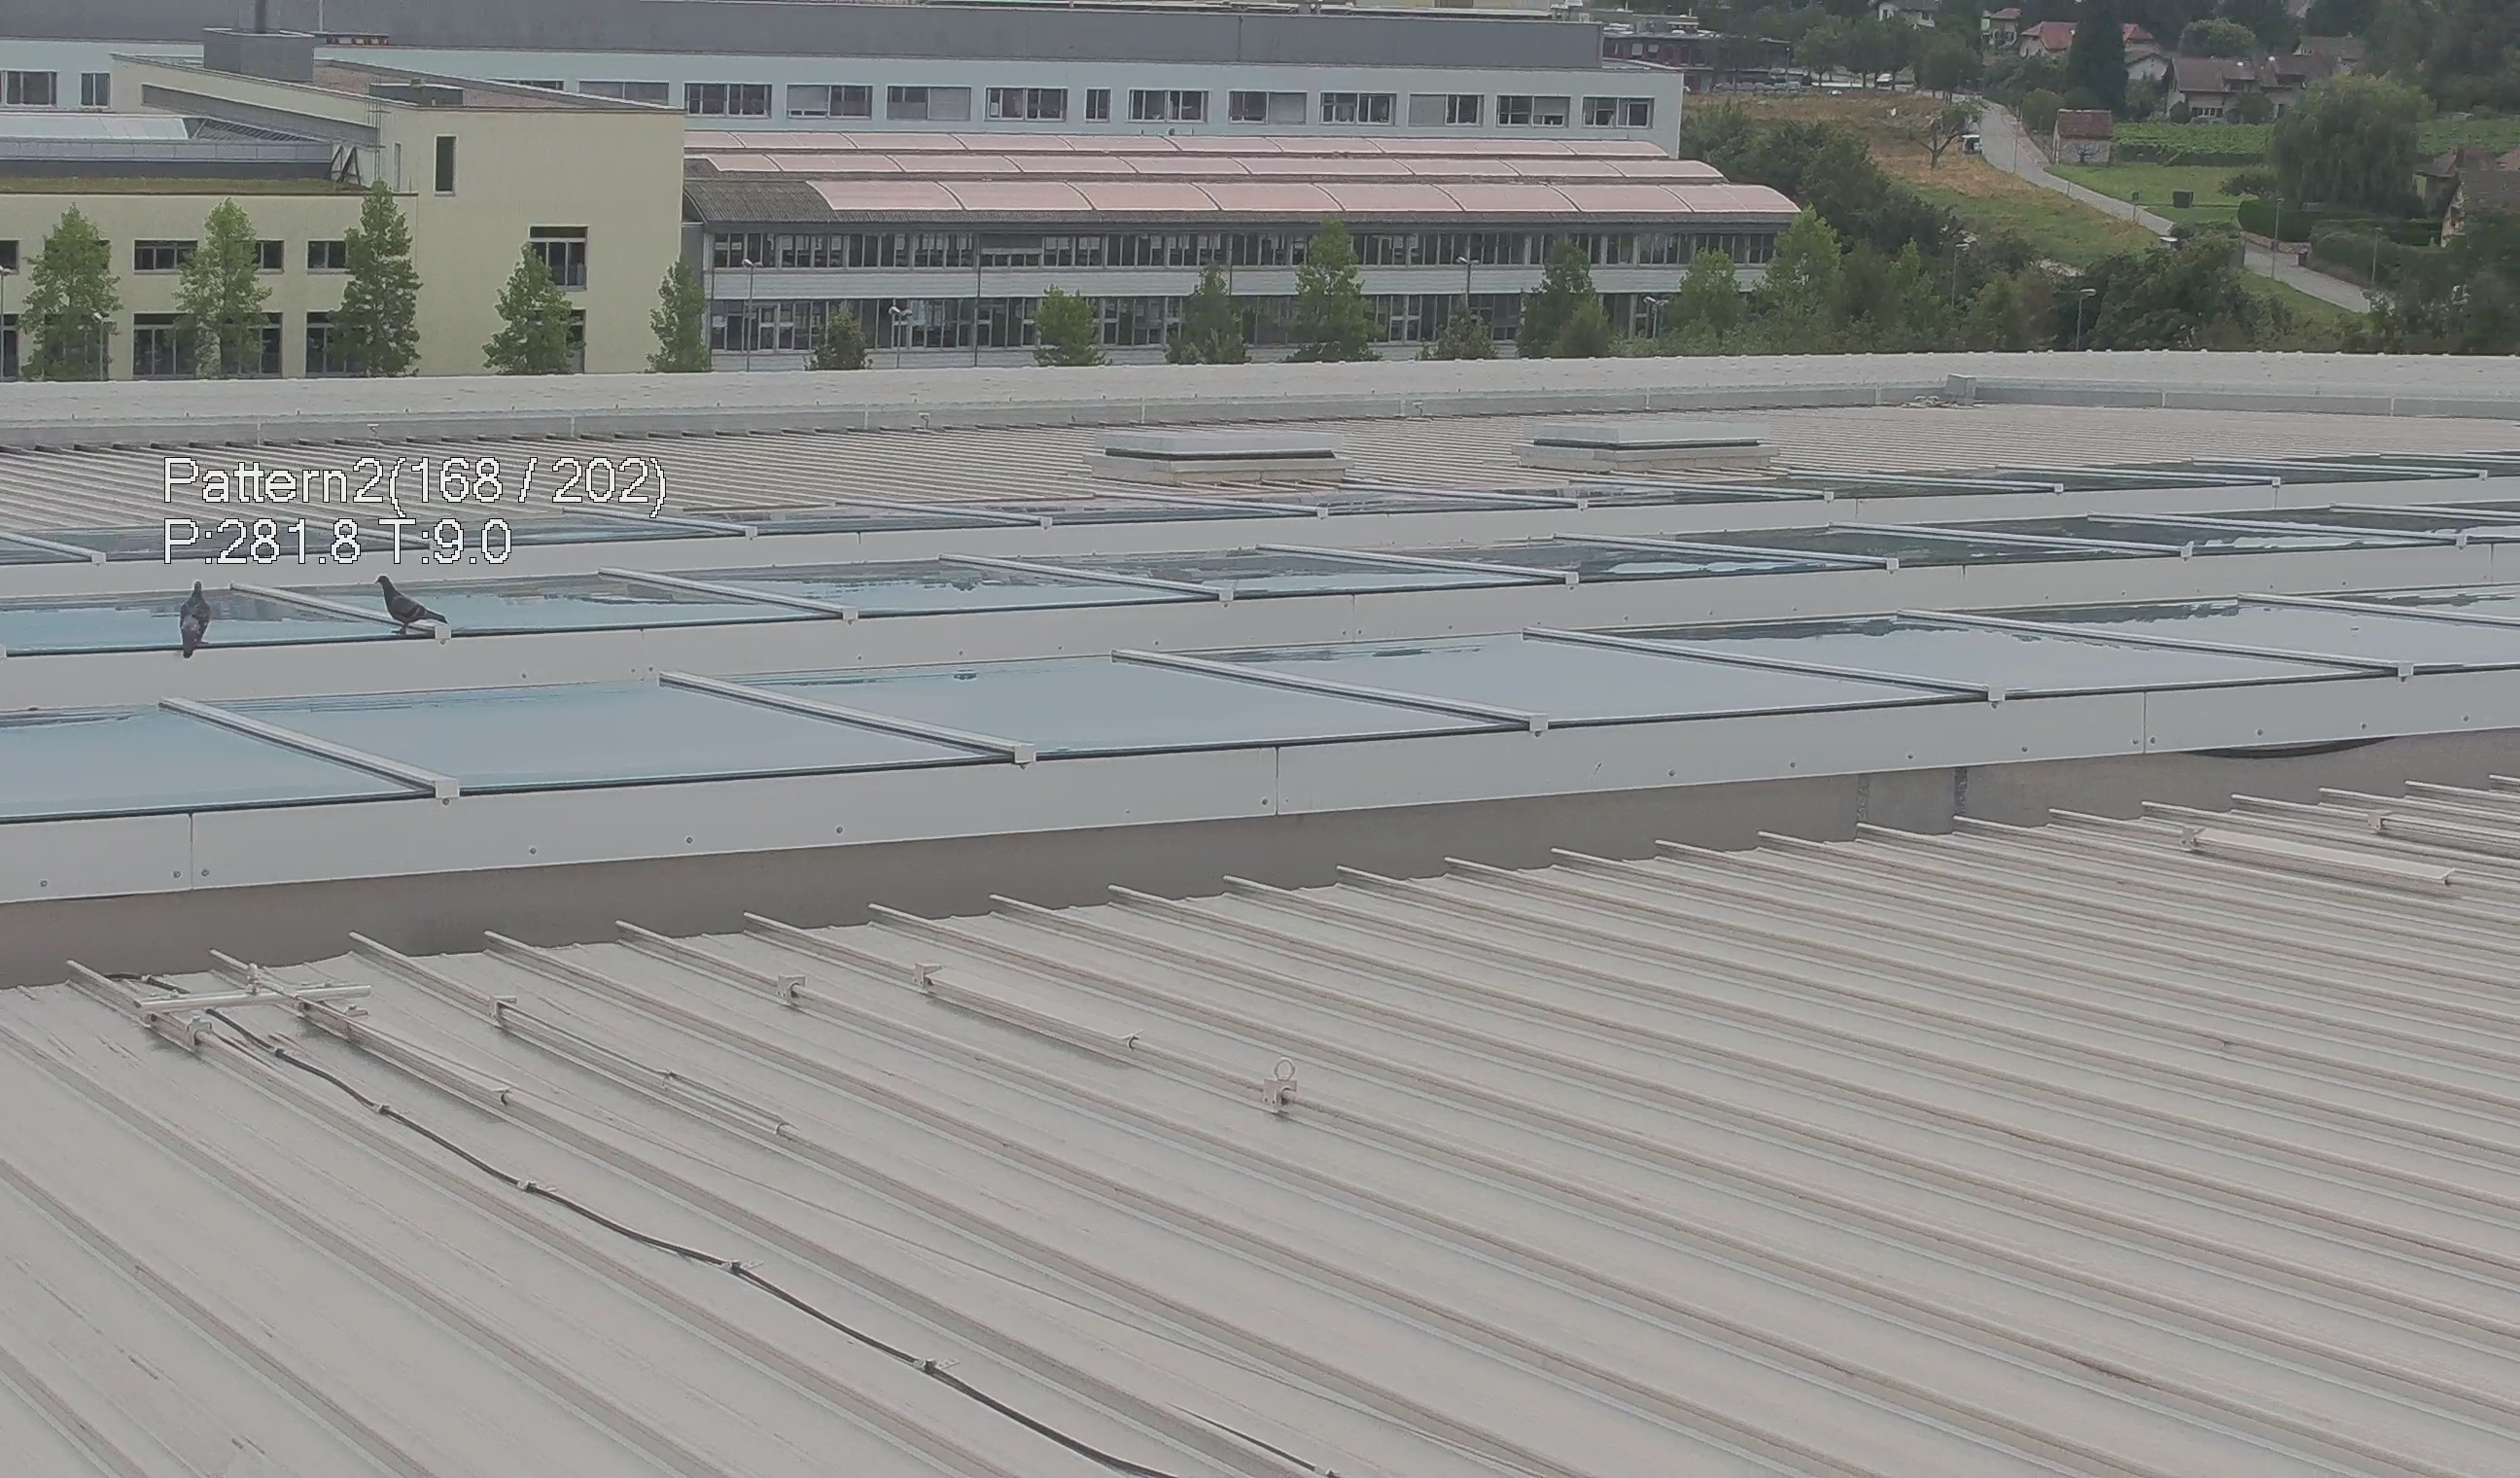Pigeon: (366, 563, 455, 648), (165, 582, 220, 655)
